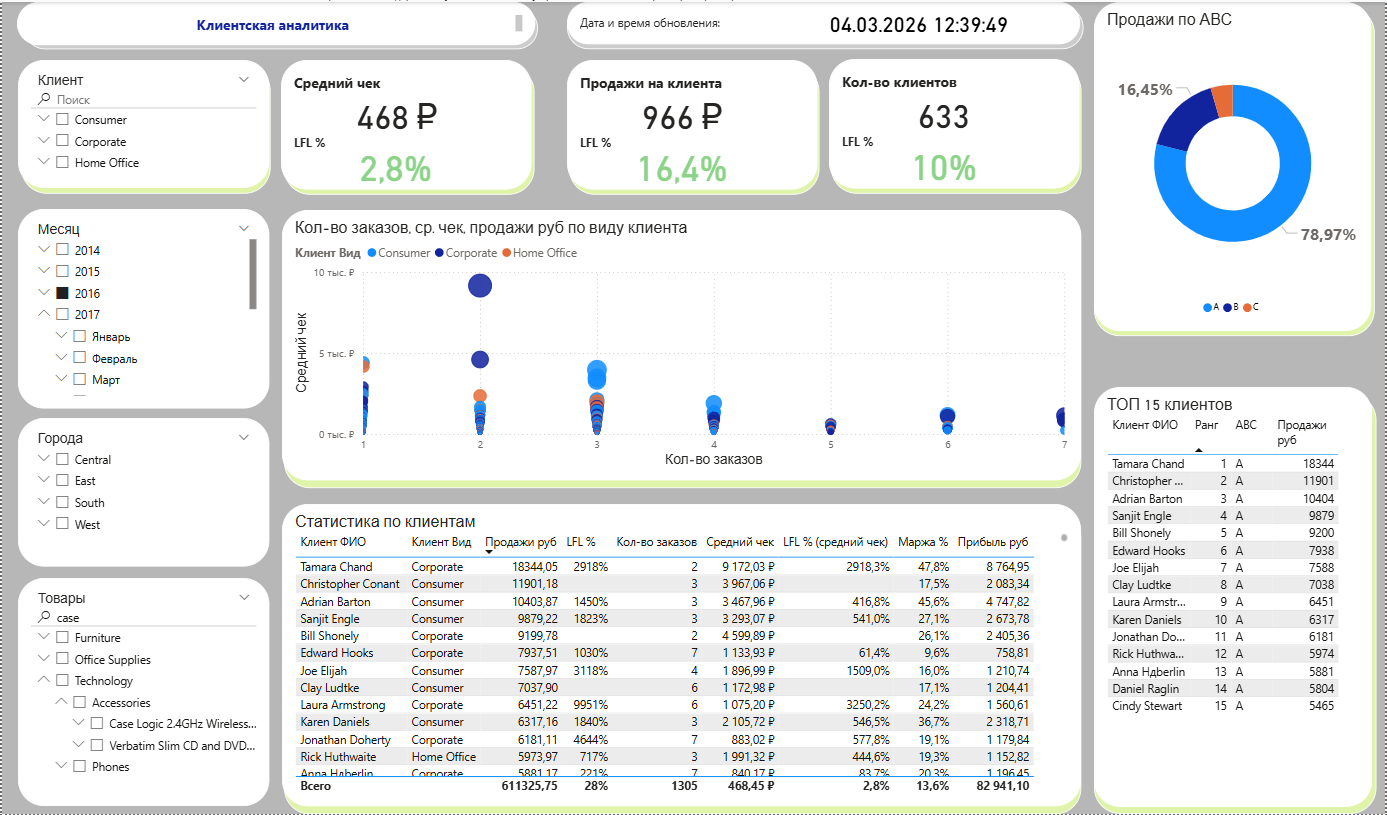

The dashboard page shown, as its layout file describes it:
{"tool":"powerbi","page":{"name":"Клиентская аналитика","canvas":[1600,940],"ordinal":1},"visuals":[{"type":"textbox","box":[22,72.9,289.4,149.3],"z":0},{"type":"textbox","box":[1264.7,454.1,327.1,485.9],"z":1000},{"type":"textbox","box":[326.7,240.5,923.5,321.5],"z":2000},{"type":"textbox","box":[326.7,590.4,923.5,349.8],"z":3000},{"type":"textbox","box":[1264.7,5.9,324.7,381.2],"z":4000},{"type":"textbox","box":[654.1,4.6,598.5,49.8],"z":5000},{"type":"scatterChart","title":"Кол-во заказов, ср. чек, продажи руб  по  виду клиента","fields":{"Y":["Меры.Средний чек"],"X":["Меры.Кол-во заказов"],"Size":["Меры.Продажи руб"],"Category":["Клиенты.Клиент ФИО"],"Series":["Клиенты.Клиент Вид"]},"box":[324.1,240.5,924.8,312.5],"z":6000},{"type":"slicer","fields":{"Values":["Календарь.Год","Календарь.Месяц текст","Календарь.Дата"]},"box":[18.8,240,290.6,230.6],"z":7000},{"type":"slicer","fields":{"Values":["Регионы.Регион","Регионы.Штат","Регионы.Город"]},"box":[18.8,481.2,290.6,171.8],"z":8000},{"type":"textbox","box":[326.1,73.9,290,148.7],"z":9000},{"type":"textbox","box":[323.2,66.6,290,149.8],"z":10000},{"type":"card","fields":{"Values":["Меры.Средний чек"]},"box":[342.7,106.5,228.6,47.7],"z":11000},{"type":"card","fields":{"Values":["Меры.LFL % (средний чек)"]},"box":[371.9,160.5,168,56.4],"z":12000},{"type":"textbox","box":[656.5,73.9,290,148.7],"z":13000},{"type":"textbox","box":[653.6,66.6,290,149.8],"z":14000},{"type":"card","fields":{"Values":["Меры.Продажи на клиента"]},"box":[673,106.5,228.6,47.7],"z":15000},{"type":"card","fields":{"Values":["Меры.LFL % (продажи на клиента)"]},"box":[702.3,160.5,168,56.4],"z":16000},{"type":"textbox","box":[959.8,72.7,290,148.7],"z":17000},{"type":"textbox","box":[956.9,65.4,290,149.8],"z":18000},{"type":"card","fields":{"Values":["Меры.Клиенты"]},"box":[976.4,105.3,228.6,47.7],"z":19000},{"type":"card","fields":{"Values":["Меры.LFL % (клиенты)"]},"box":[1005.6,159.3,168,56.4],"z":20000},{"type":"textbox","box":[654.1,0,593.9,48.6],"z":21000},{"type":"textbox","box":[25.5,5.3,594.7,48.9],"z":22000},{"type":"textbox","box":[17,0,600,50],"z":23000},{"type":"card","fields":{"Values":["Min(Время обновения.Дата последнего обновления)"]},"box":[889,2,344.4,45.5],"z":24000},{"type":"tableEx","title":"Статистика по клиентам","fields":{"Values":["Клиенты.Клиент ФИО","Клиенты.Клиент Вид","Меры.Продажи руб","Меры.LFL % (продажи)","Меры.Кол-во заказов","Меры.Средний чек","Меры.LFL % (средний чек)","Меры.Маржа %","Меры.Прибыль руб"]},"box":[324.1,581.4,924.8,349.8],"z":25000},{"type":"donutChart","title":"Продажи  по АВС","fields":{"Y":["Меры.Продажи руб"],"Category":["Клиенты.ABC клиент"]},"box":[1264.7,0,321.2,381.2],"z":26000},{"type":"tableEx","title":"ТОП 15 клиентов","fields":{"Values":["Клиенты.Клиент ФИО","Меры.Клиент ранг ABC","Меры.Клиент ABC","Меры.Продажи руб"]},"box":[1264.7,445.9,322.4,485.9],"z":27000},{"type":"slicer","fields":{"Values":["Товар.Категория","Товар.Подкатегория","Товар.Наименование товара","Товар.Товар ID"]},"box":[18.2,666.8,291.1,263.9],"z":28000},{"type":"slicer","fields":{"Values":["Клиенты.Клиент Вид","Клиенты.Клиент ФИО","Клиенты.Клиент ID"]},"box":[18.5,67.1,290.6,148.2],"z":29000}]}

Visuals, with their boxes in screenshot pixels (x1, y1, x2, y2), scaled from the page's 1600x940 canvas onto the 1387x815 screenshot:
textbox: left=19, top=63, right=270, bottom=193
textbox: left=1096, top=394, right=1380, bottom=814
textbox: left=283, top=209, right=1084, bottom=487
textbox: left=283, top=512, right=1084, bottom=814
textbox: left=1096, top=5, right=1378, bottom=336
textbox: left=567, top=4, right=1086, bottom=47
"Кол-во заказов, ср. чек, продажи руб  по  виду клиента" scatterChart: left=281, top=209, right=1083, bottom=479
slicer - Календарь.Год x Календарь.Месяц текст: left=16, top=208, right=268, bottom=408
slicer - Регионы.Регион x Регионы.Штат: left=16, top=417, right=268, bottom=566
textbox: left=283, top=64, right=534, bottom=193
textbox: left=280, top=58, right=532, bottom=188
card - Меры.Средний чек: left=297, top=92, right=495, bottom=134
card - Меры.LFL % (средний чек): left=322, top=139, right=468, bottom=188
textbox: left=569, top=64, right=820, bottom=193
textbox: left=567, top=58, right=818, bottom=188
card - Меры.Продажи на клиента: left=583, top=92, right=782, bottom=134
card - Меры.LFL % (продажи на клиента): left=609, top=139, right=754, bottom=188
textbox: left=832, top=63, right=1083, bottom=192
textbox: left=830, top=57, right=1081, bottom=187
card - Меры.Клиенты: left=846, top=91, right=1045, bottom=133
card - Меры.LFL % (клиенты): left=872, top=138, right=1017, bottom=187
textbox: left=567, top=0, right=1082, bottom=42
textbox: left=22, top=5, right=538, bottom=47
textbox: left=15, top=0, right=535, bottom=43
card - Min(Время обновения.Дата последнего обновления): left=771, top=2, right=1069, bottom=41
"Статистика по клиентам" tableEx: left=281, top=504, right=1083, bottom=807
"Продажи  по АВС" donutChart: left=1096, top=0, right=1375, bottom=331
"ТОП 15 клиентов" tableEx: left=1096, top=387, right=1376, bottom=808
slicer - Товар.Категория x Товар.Подкатегория: left=16, top=578, right=268, bottom=807
slicer - Клиенты.Клиент Вид x Клиенты.Клиент ФИО: left=16, top=58, right=268, bottom=187
